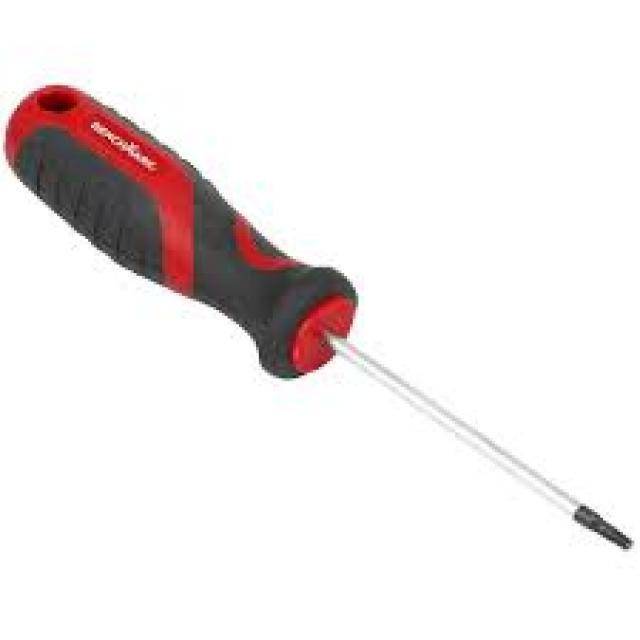screwdriver: (2, 80, 638, 554)
